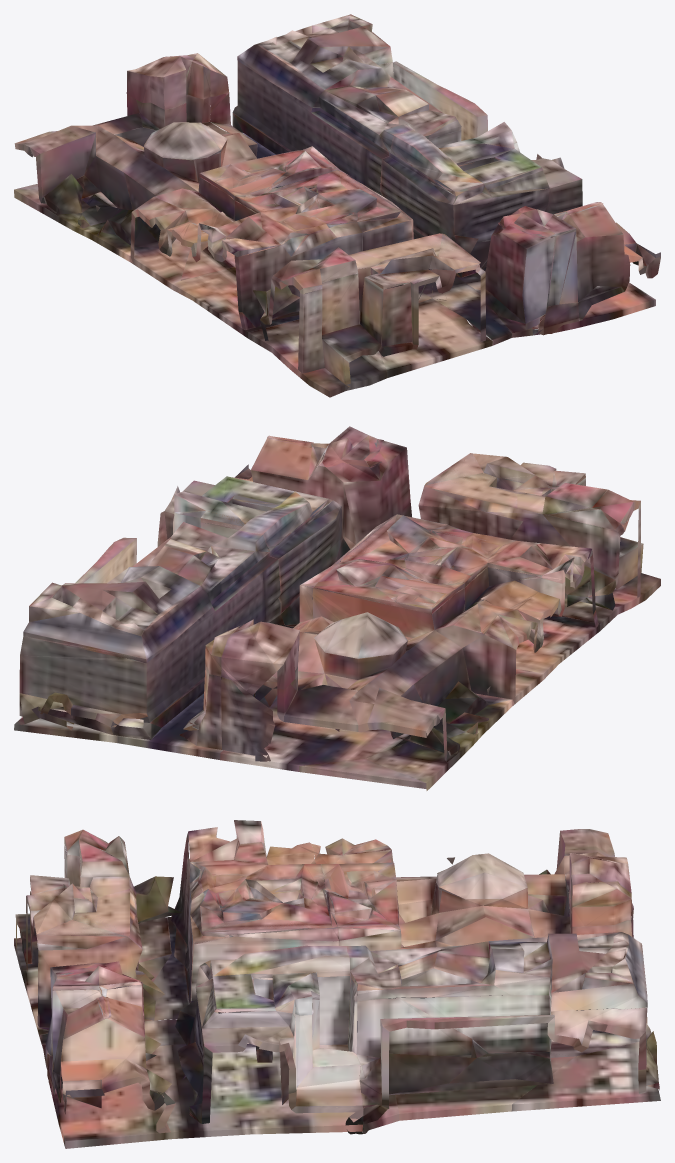
3 views of the same model, one above another, from view 1: azimuth 30°, elevation 25°; view 2: azimuth 150°, elevation 25°; view 3: azimuth 270°, elevation 25° (orthographic). The views are drawn at different scales.
Visible parts, largest first — view 1: Mesh_0; view 2: Mesh_0; view 3: Mesh_0.
Part boxes in pixels (bbox=[...]): Mesh_0: bbox=[14, 14, 660, 397]; Mesh_0: bbox=[14, 426, 660, 790]; Mesh_0: bbox=[14, 820, 660, 1148].
Bounding box in the file's own units: 135 × 44.02 × 165.
1 material, 1 textured.
